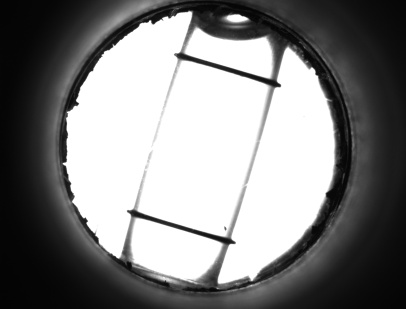line: (190, 53, 262, 86), (141, 211, 215, 243)
